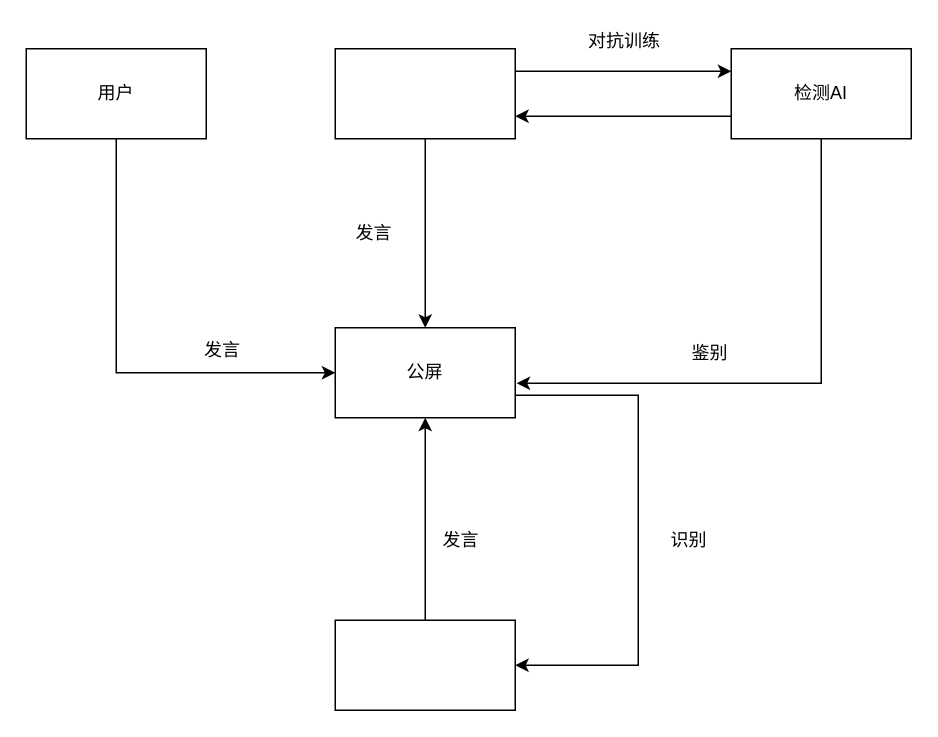
Some shapes in this 938 by 737 pixel diagram are drawn without their labels. Here are the shapes that lost their labels. From the top down, the box of each, then its label:
(334, 47, 515, 139): AI假人
(334, 619, 515, 710): 外挂
